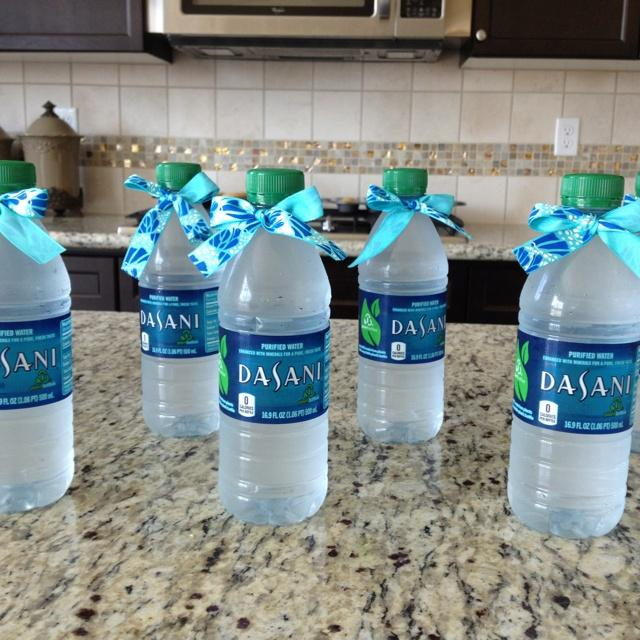bottle: (189, 160, 343, 533), (501, 162, 640, 546), (345, 160, 480, 450), (118, 149, 240, 446), (0, 149, 81, 524)
